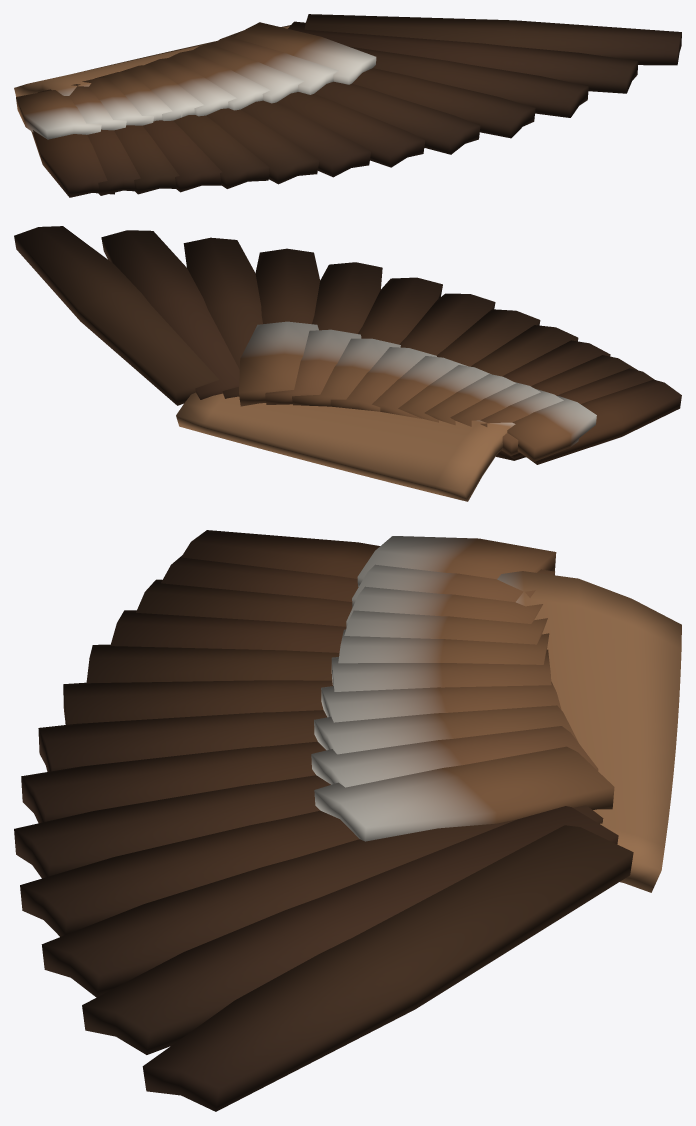
Rendered from Sparrow_Wing.fbx.
3 views of the same model, one above another, from view 1: azimuth 30°, elevation 25°; view 2: azimuth 150°, elevation 25°; view 3: azimuth 270°, elevation 25° (orthographic). The views are drawn at different scales.
Parts seen in each view (by area): view 1: Sparrow_Wing; view 2: Sparrow_Wing; view 3: Sparrow_Wing.
Boxes of the visible parts, x1,y1,x2,y2 form: Sparrow_Wing: (14, 14, 681, 197); Sparrow_Wing: (14, 226, 681, 501); Sparrow_Wing: (14, 530, 681, 1111).
Size of the model in its own units: 3.24 by 0.2041 by 1.64.
